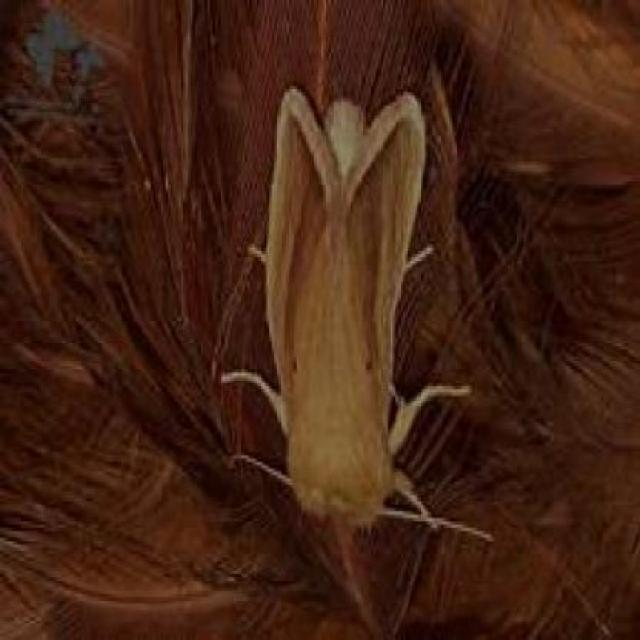stem-borer: (255, 80, 432, 538)
